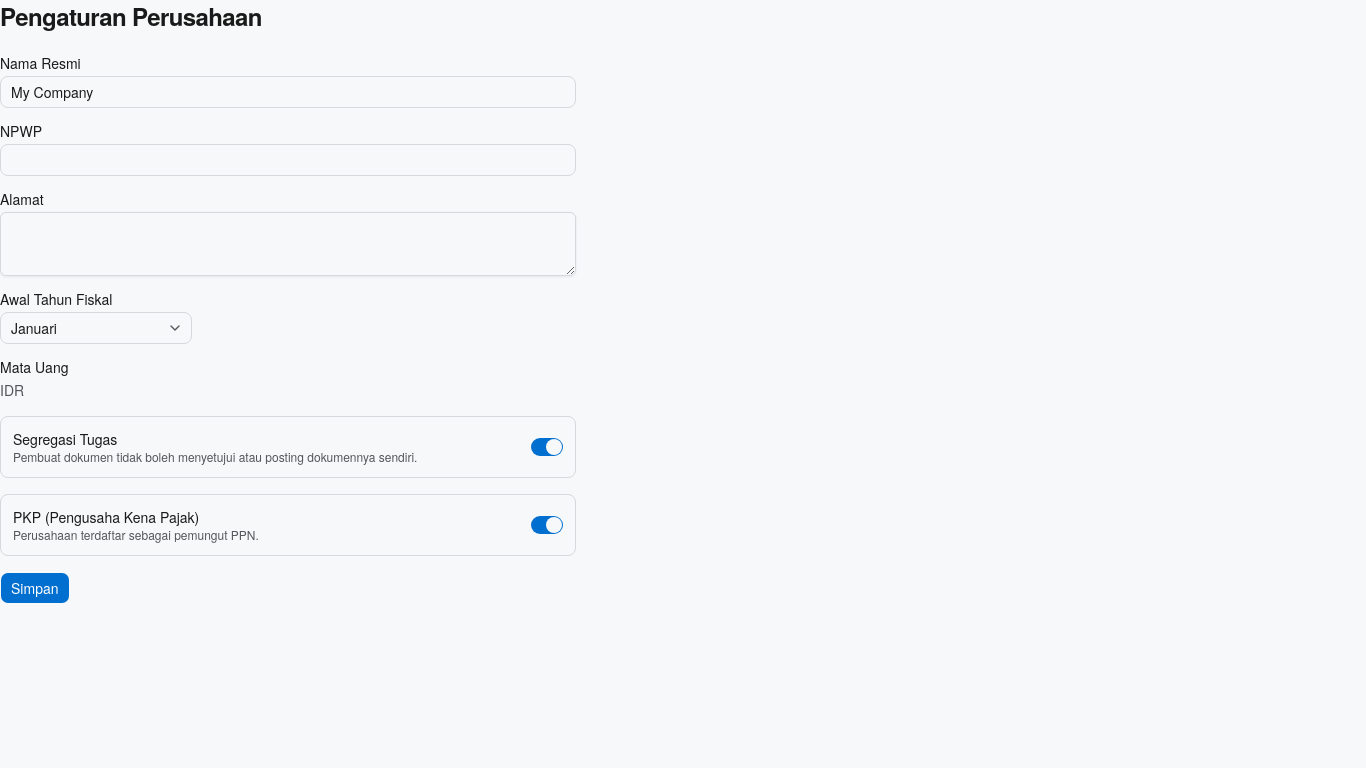
Test case: ADMIN: confirming the SoD-disable leaves the switch off
Check: the field labelled "Nama Resmi" is shown, box [0,76,576,108]
Step 1. Click the switch named "Segregasi Tugas" → (547, 447), box [531,438,563,456]
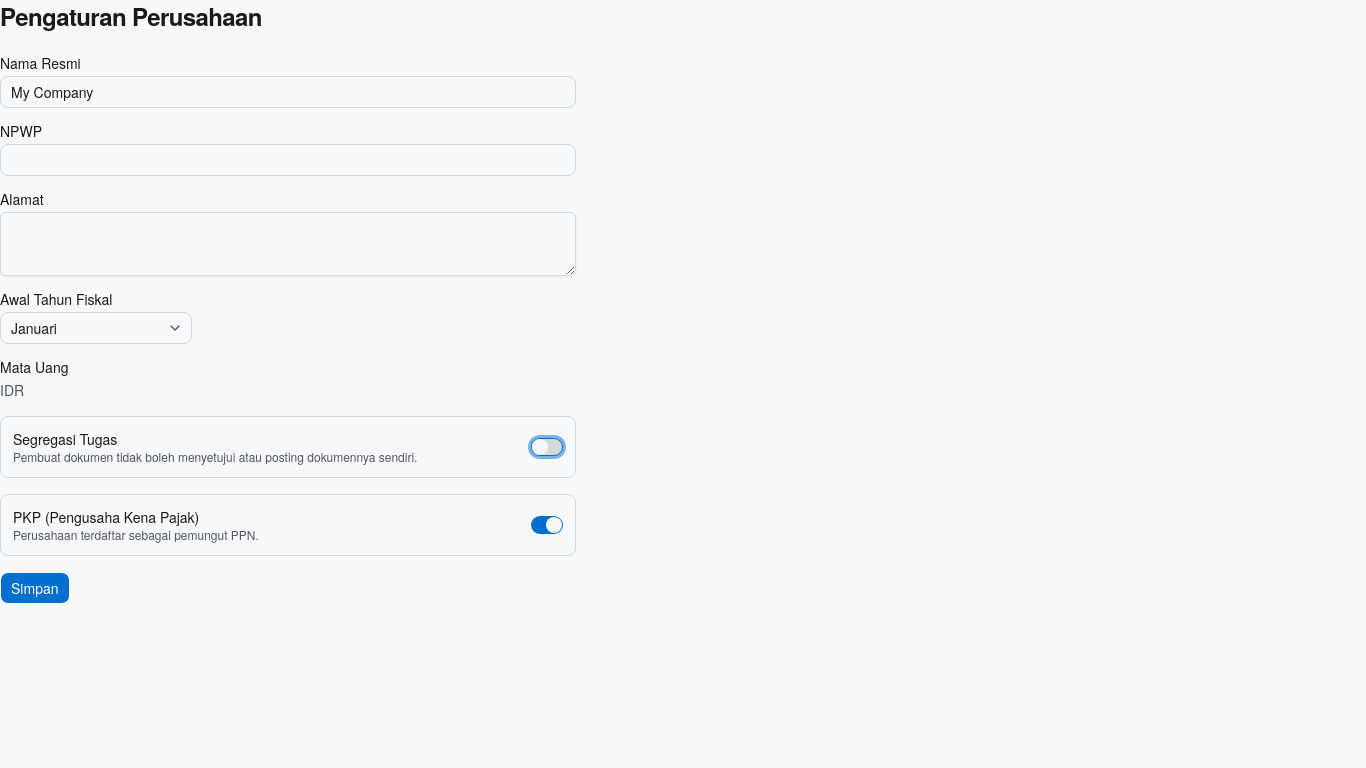
Step 2. Click the button "Simpan" → (35, 588), box [0,572,70,604]
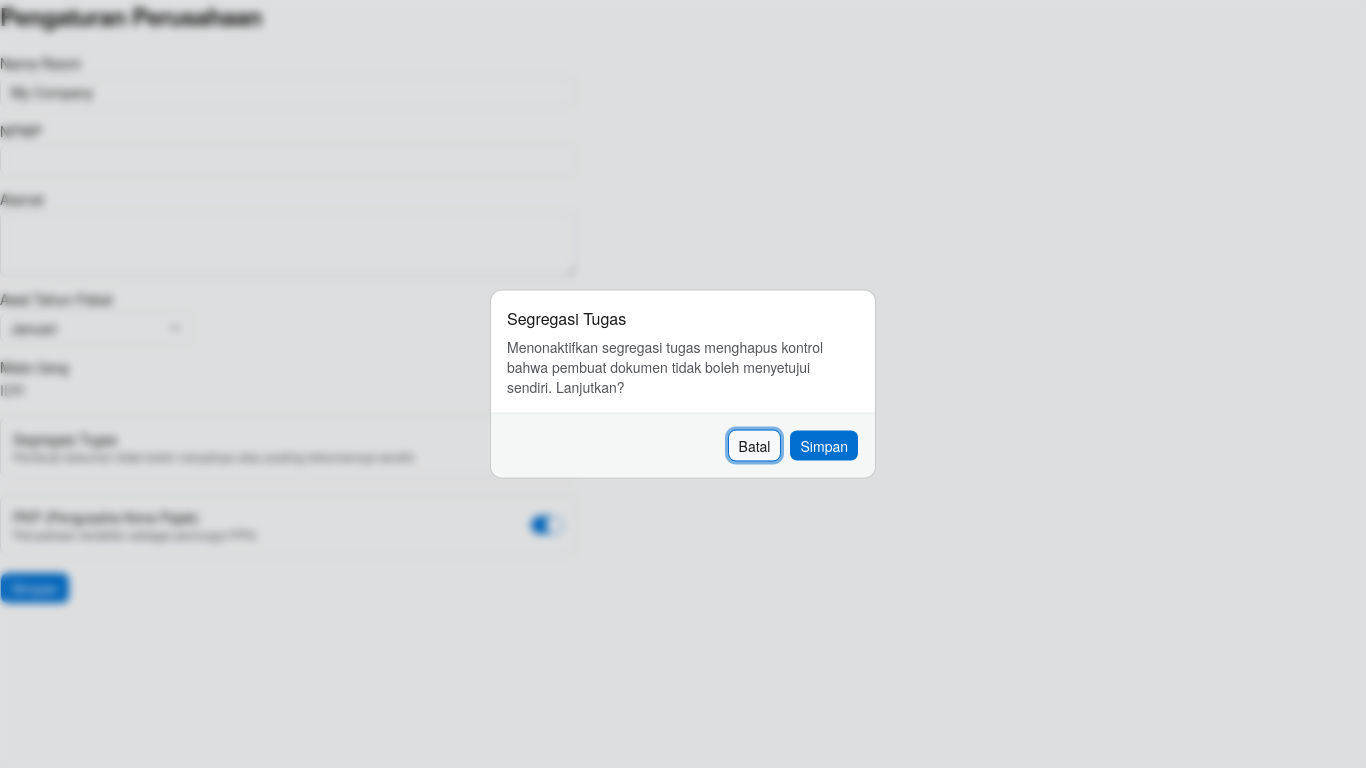
Step 3. Click the button "Simpan" → (824, 446), box [790,430,859,462]
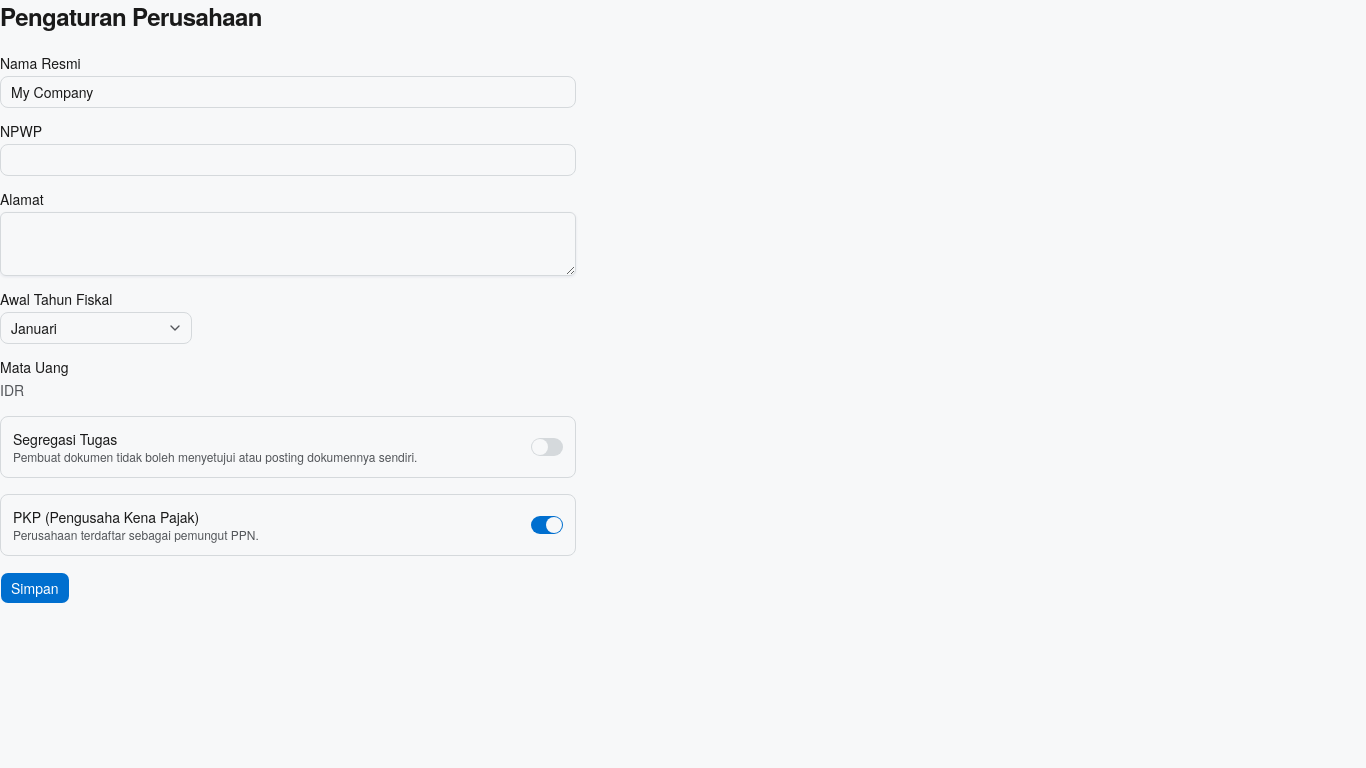
Check: the switch named "Segregasi Tugas" is not checked, box [531,438,563,456]
Check: the dialog is gone
